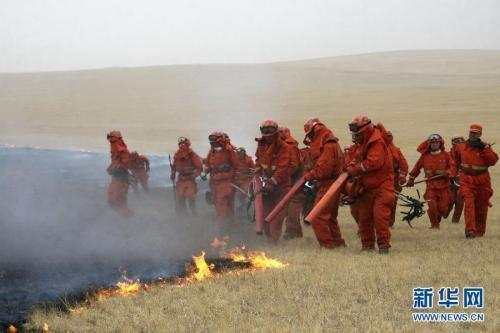fire: (179, 230, 289, 285), (87, 272, 160, 298)
